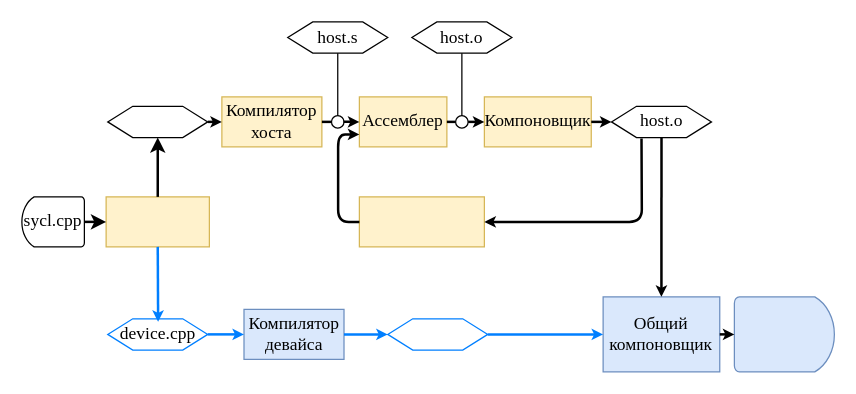
Some shapes in this 856 by 394 pixel diagram are drawn without their labels. Here are the shapes that lost their labels. From the top down, the box of each, then its label:
(106, 105, 208, 138): host.cpp
(105, 196, 209, 247): Компилятор SYCL
(358, 196, 484, 247): Дизассемблер
(386, 318, 488, 350): device.spv
(733, 296, 834, 372): Код хоста API вызовы Код девайса
